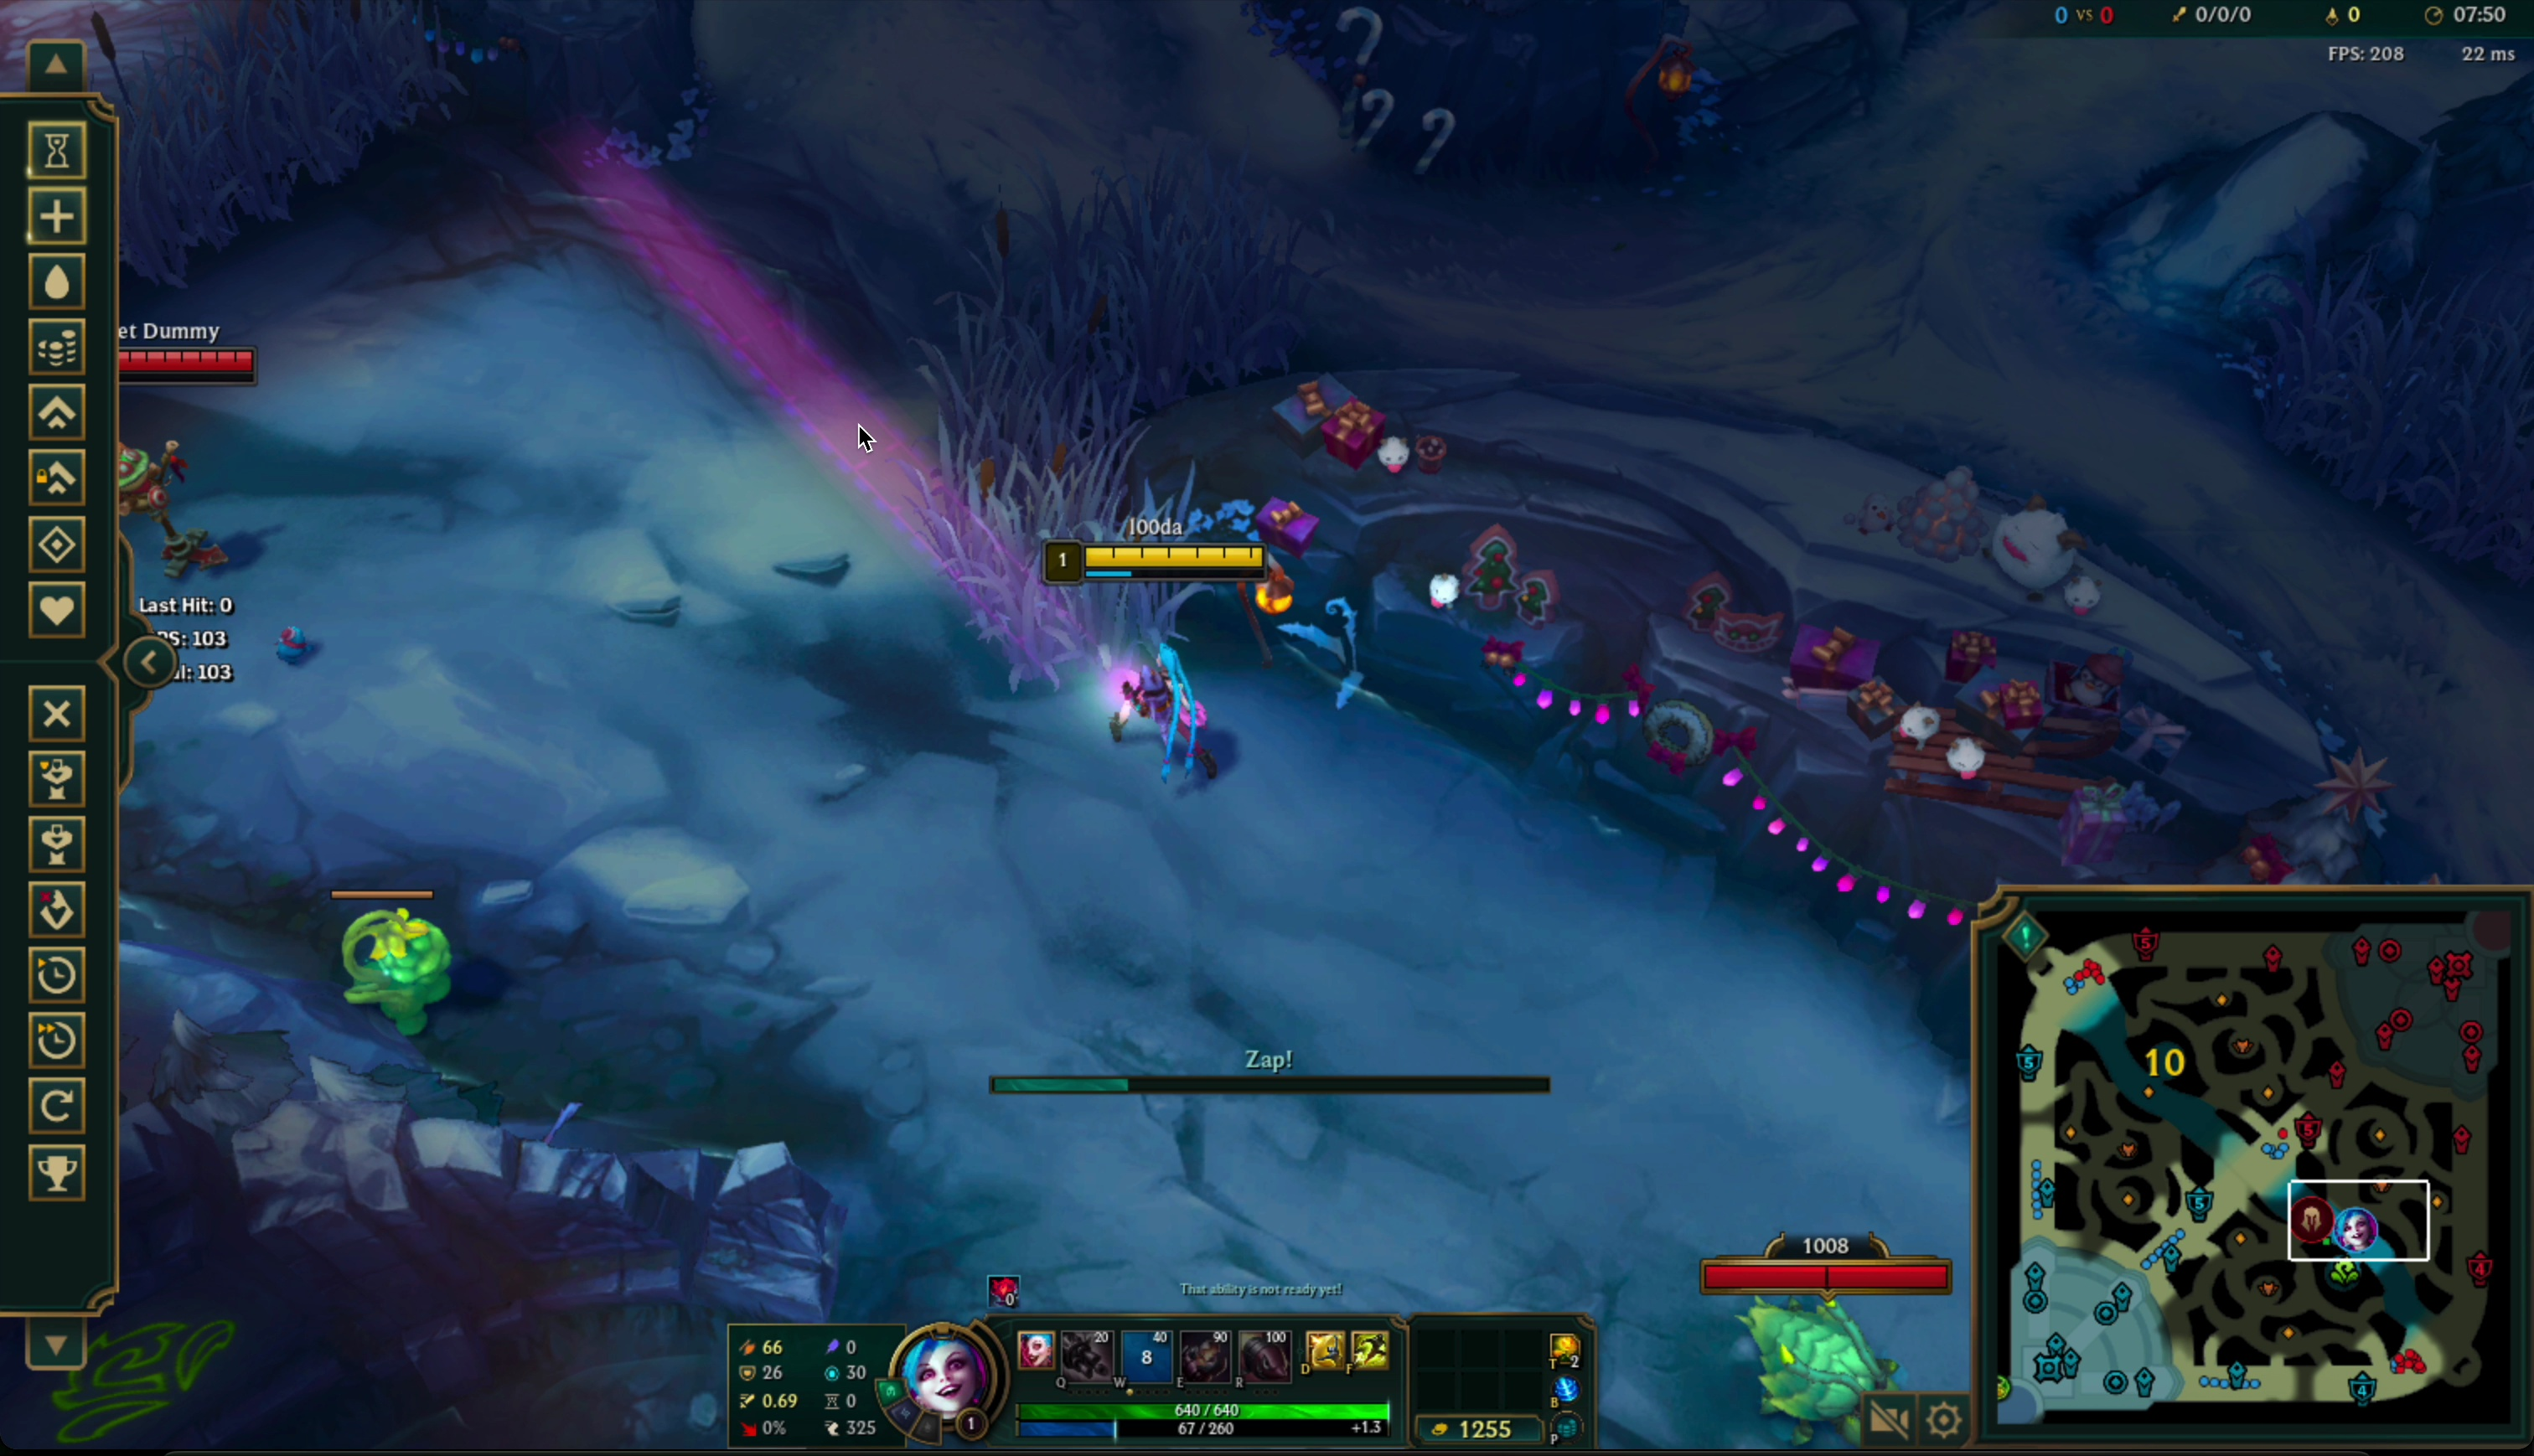JINX_W_PROJECTILE: (498, 80, 1311, 802)
